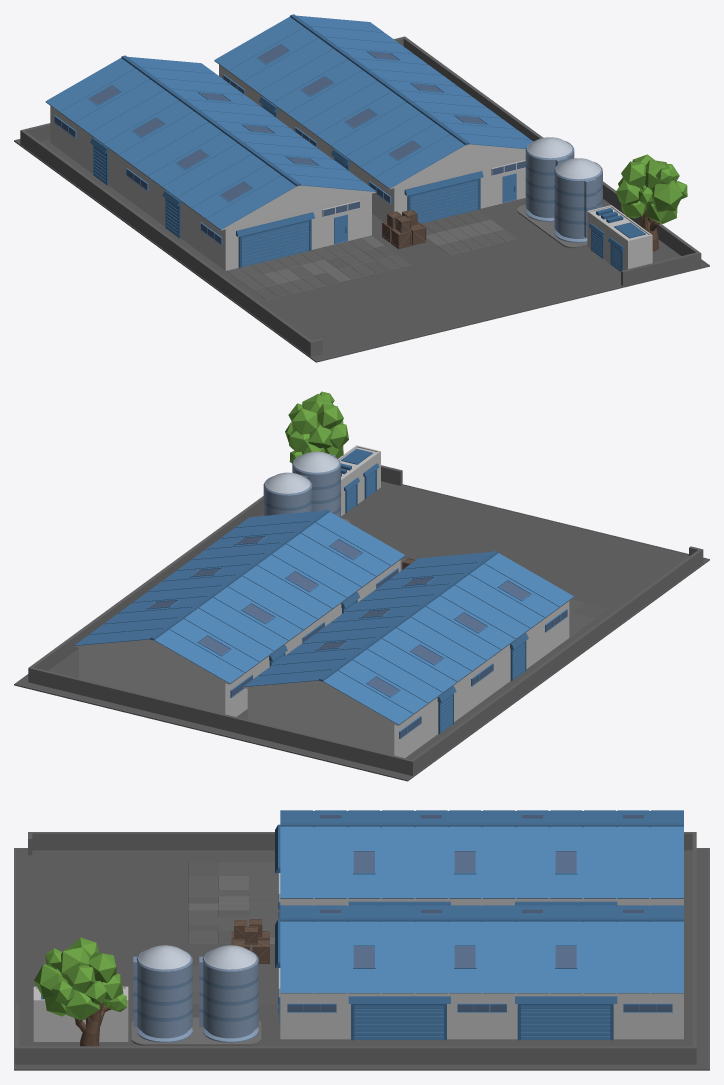
File: warehouse.glb
3 renders of one model, top to bottom at view 1: azimuth 30°, elevation 25°; view 2: azimuth 150°, elevation 25°; view 3: azimuth 270°, elevation 25°, orthographic. The views are drawn at different scales.
Parts seen in each view (by area): view 1: lpc001297702; view 2: lpc001297702; view 3: lpc001297702.
Part boxes in pixels (x1=…): lpc001297702: x1=14, y1=14, x2=709, y2=362; lpc001297702: x1=14, y1=391, x2=709, y2=781; lpc001297702: x1=14, y1=810, x2=709, y2=1070.
Bounding box in the file's own units: 7.77 × 1.74 × 10.33.
